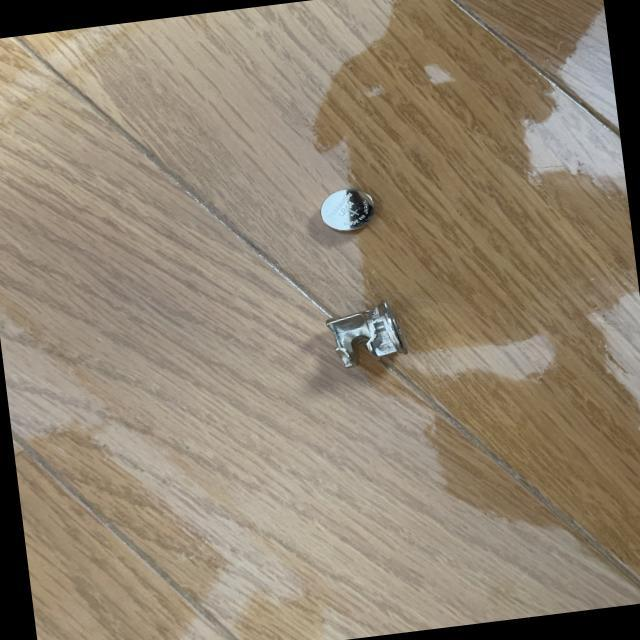COIN: (317, 184, 378, 233)
